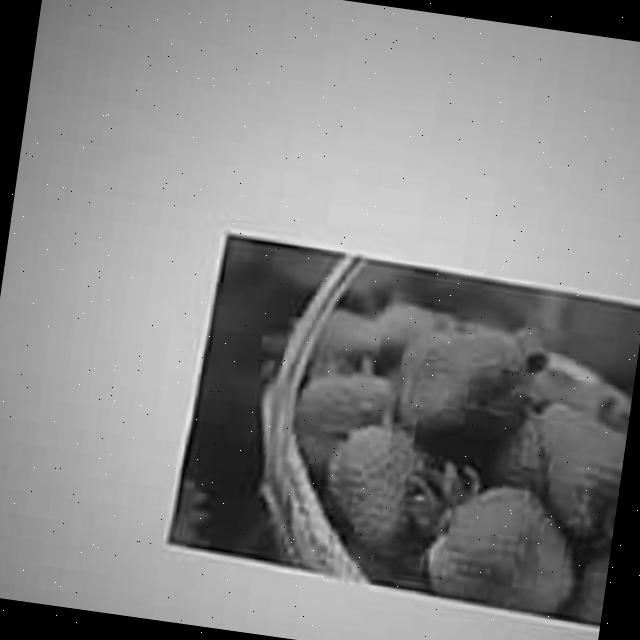ripe: (423, 480, 585, 616), (320, 420, 436, 556)
